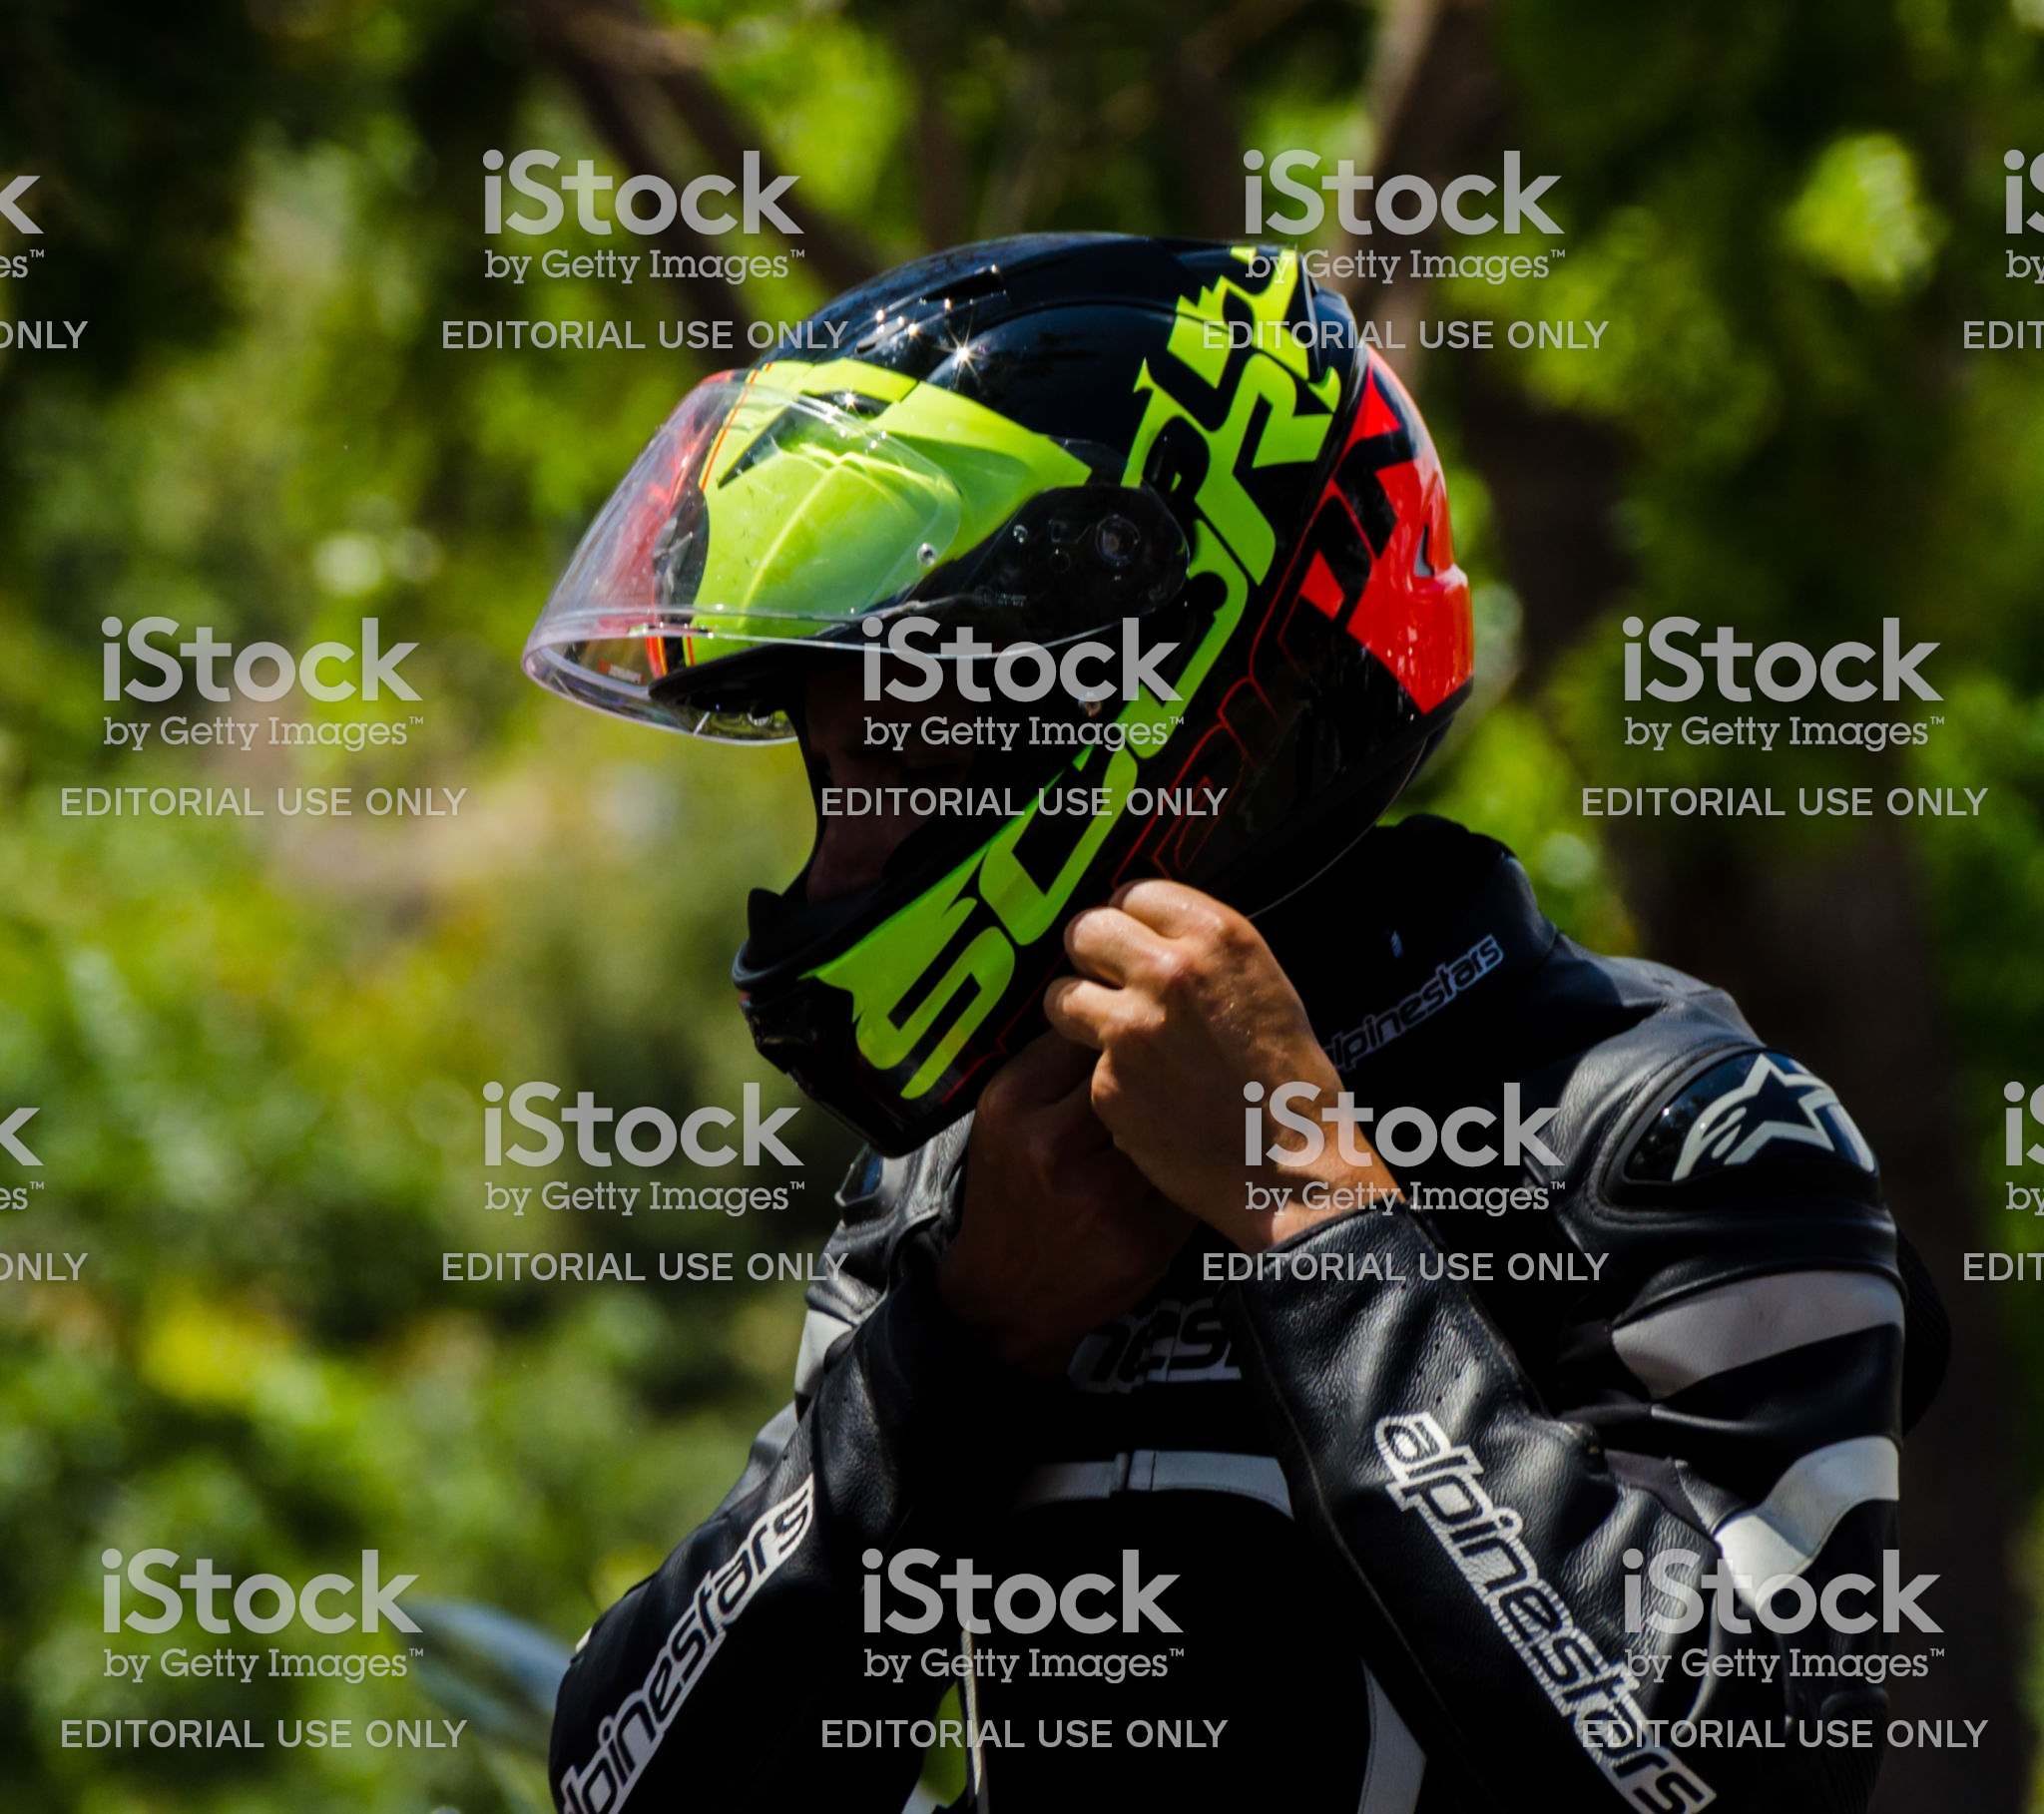helmet: (617, 201, 1463, 939)
